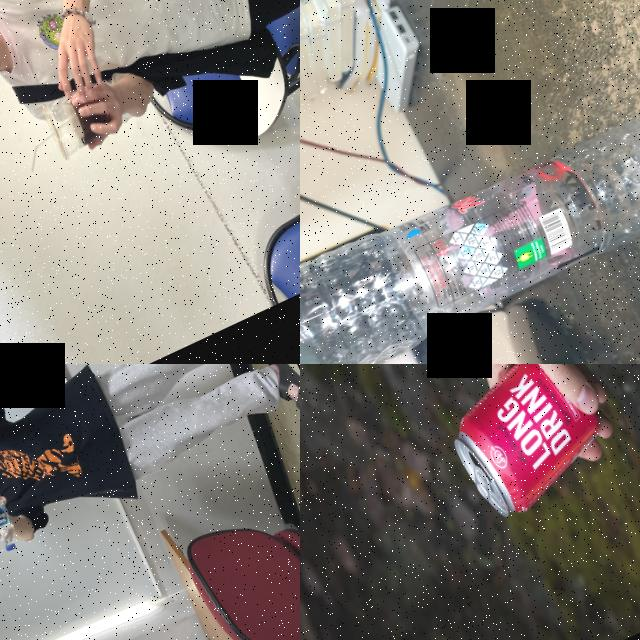bottle: (300, 75, 640, 364), (0, 446, 25, 553)
can: (424, 364, 627, 530)
cup: (36, 77, 120, 162)
